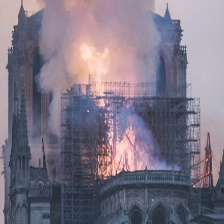fire: (100, 107, 140, 174), (80, 45, 112, 88)
smoke: (40, 1, 160, 107)
